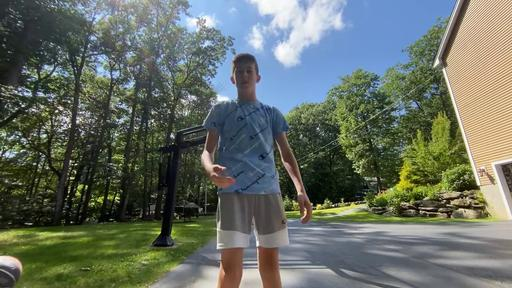human: (200, 53, 312, 288)
